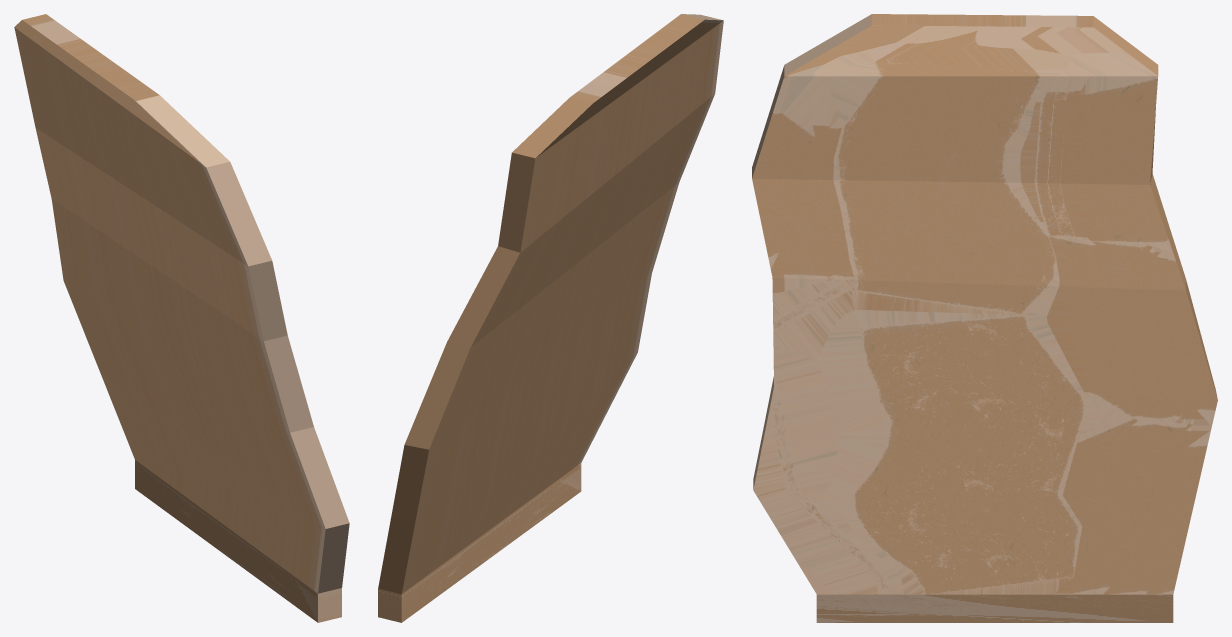
Rendered from ZumBiaCardboard.fbx.
3 renders of one model, left to right at view 1: azimuth 30°, elevation 25°; view 2: azimuth 150°, elevation 25°; view 3: azimuth 270°, elevation 25°, orthographic. The views are drawn at different scales.
Parts seen in each view (by area): view 1: ParteRotacional; view 2: ParteRotacional; view 3: ParteRotacional.
Part boxes in pixels (<box>): ParteRotacional: <box>14,14,349,622</box>; ParteRotacional: <box>378,14,723,622</box>; ParteRotacional: <box>752,14,1217,622</box>.
Bounding box in the file's own units: 112 × 325 × 261.
